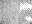person: (21, 3, 31, 13), (26, 19, 31, 23)
